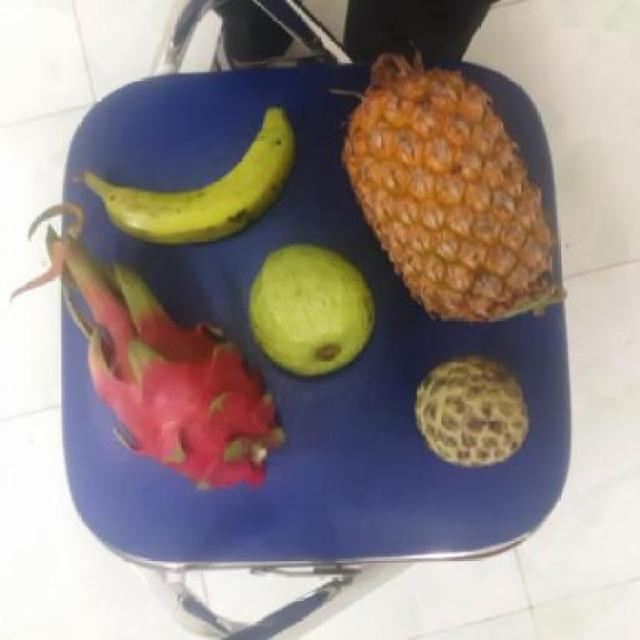banana: (104, 103, 301, 248)
dragon fruit: (90, 322, 279, 493)
guava: (241, 247, 376, 378)
pineapple: (336, 59, 556, 319)
sugar apple: (410, 358, 532, 469)
